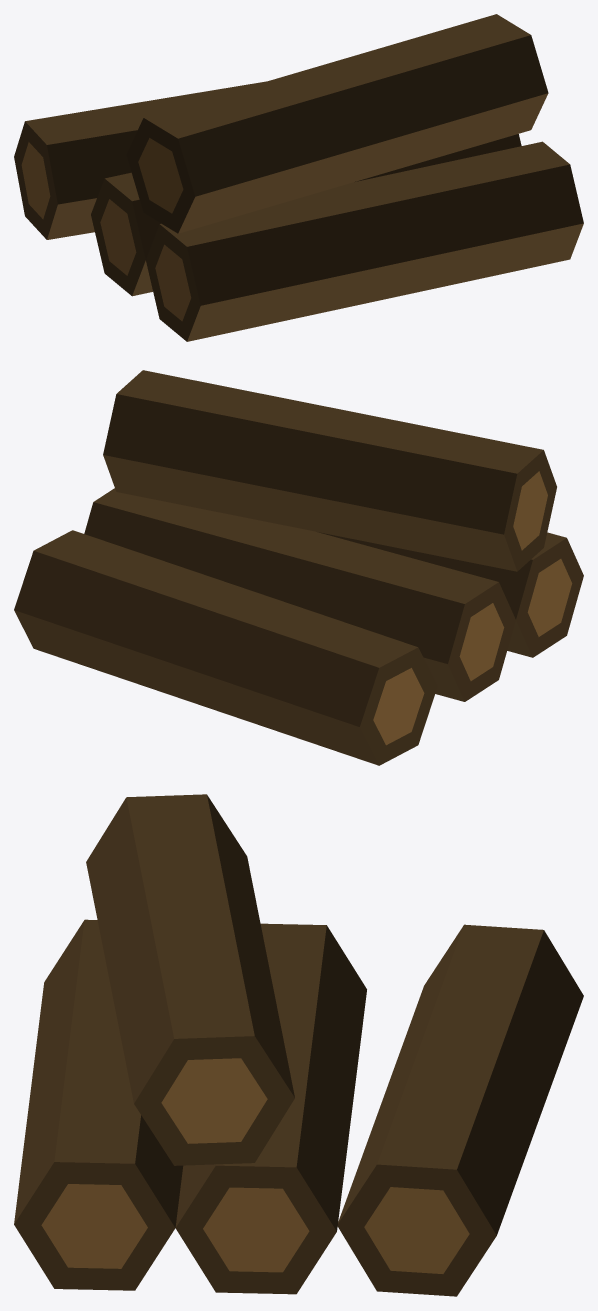
File: IP2_1_log2.obj
The picture shows the model from 3 angles, top to bottom: view 1: azimuth 30°, elevation 25°; view 2: azimuth 150°, elevation 25°; view 3: azimuth 270°, elevation 25°; orthographic projection. The views are drawn at different scales.
Parts seen in each view (by area): view 1: logs_stack; view 2: logs_stack; view 3: logs_stack.
Boxes of the visible parts, left/top/right/bottom form: logs_stack: left=14, top=14, right=583, bottom=341; logs_stack: left=14, top=370, right=583, bottom=765; logs_stack: left=14, top=794, right=583, bottom=1296.
Bounding box in the file's own units: 33.37 × 16.01 × 32.13.
